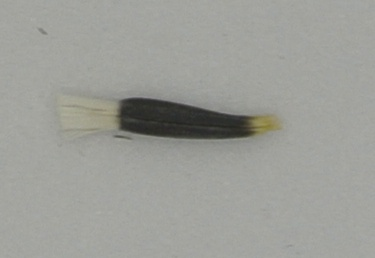เมล็ดดีติดกัน: (58, 94, 289, 143)
